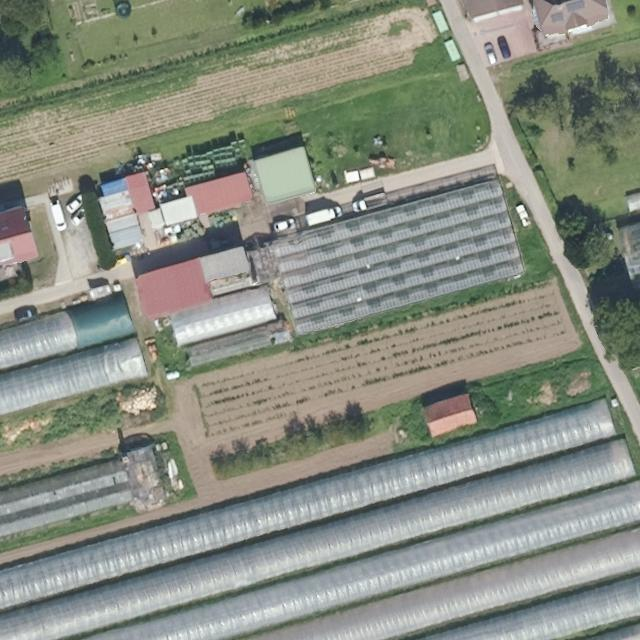PV: (565, 0, 584, 12), (549, 11, 564, 23)
